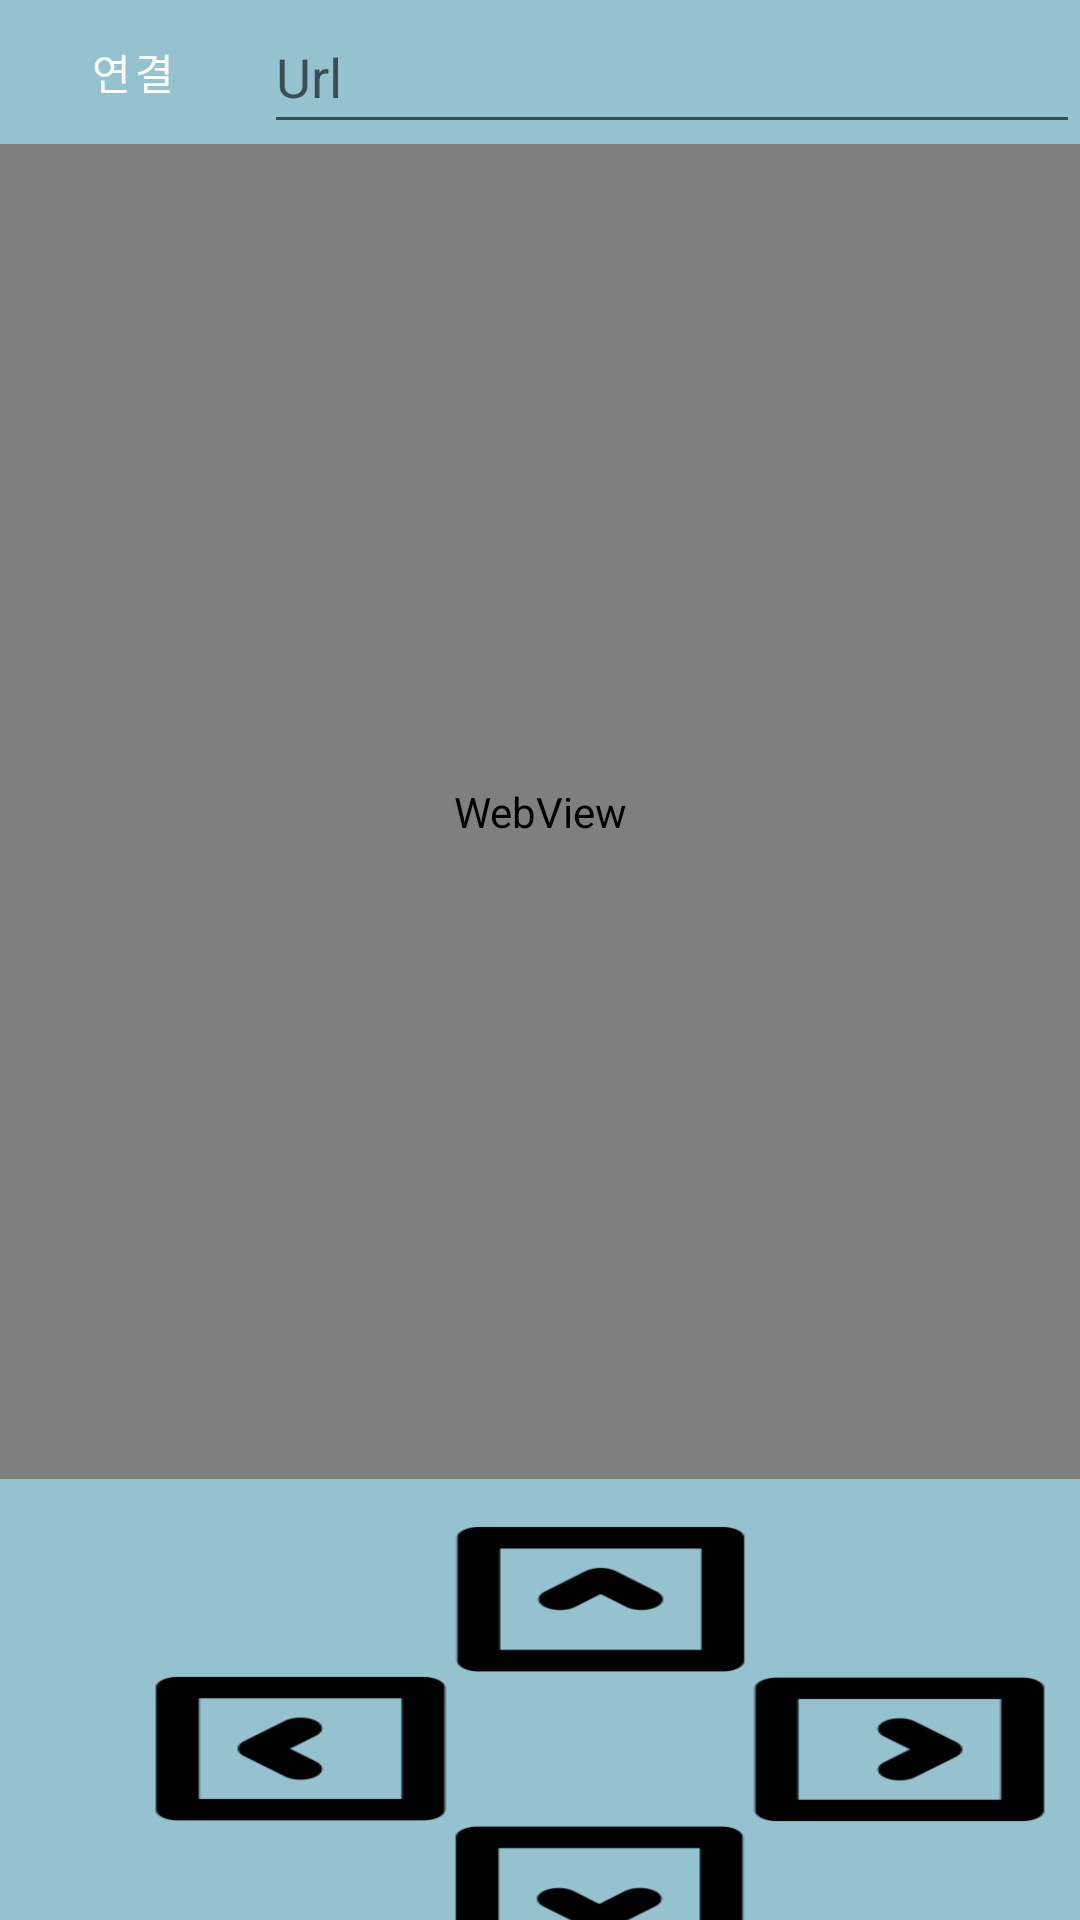

Where to tap for icons on this 1080 × 1920 app screen, as [x,y]:
keyleft: [300,1749]
keyright: [899,1749]
keyup: [600,1599]
